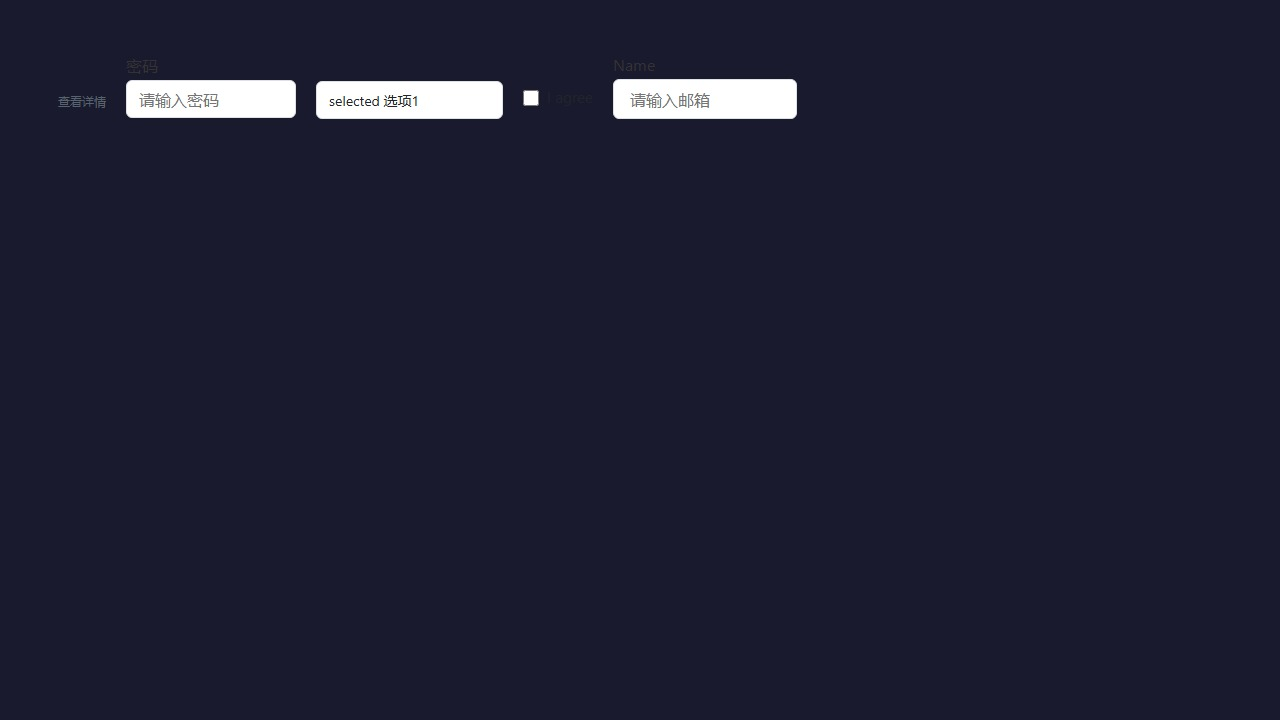checkbox: (523, 90, 539, 106)
icon: (547, 88, 593, 107)
input: (613, 79, 797, 119), (126, 80, 296, 118)
link: (58, 92, 106, 108)
radio: (523, 88, 593, 107)
select: (316, 81, 503, 119)
